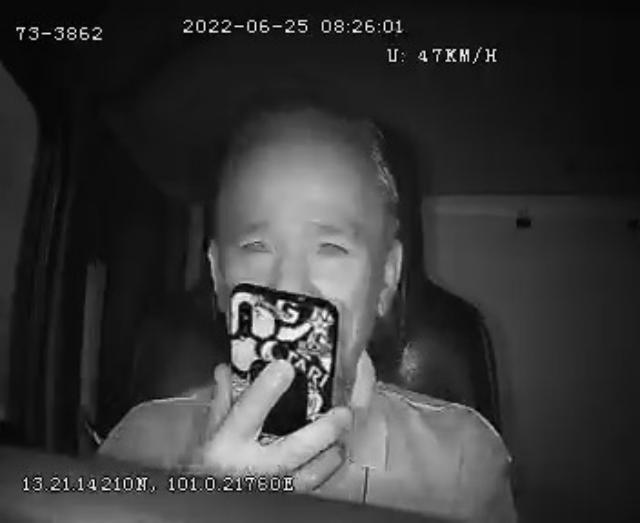PhoneUse: (226, 282, 340, 448)
SafeDriving: (308, 223, 359, 265), (230, 226, 282, 260)
